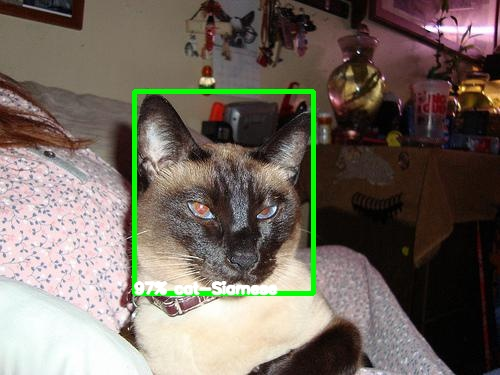cat-Siamese: (136, 92, 316, 297)
